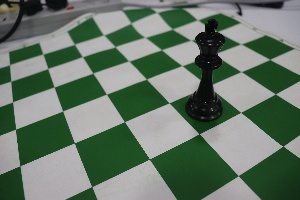black_king: (182, 8, 228, 130)
